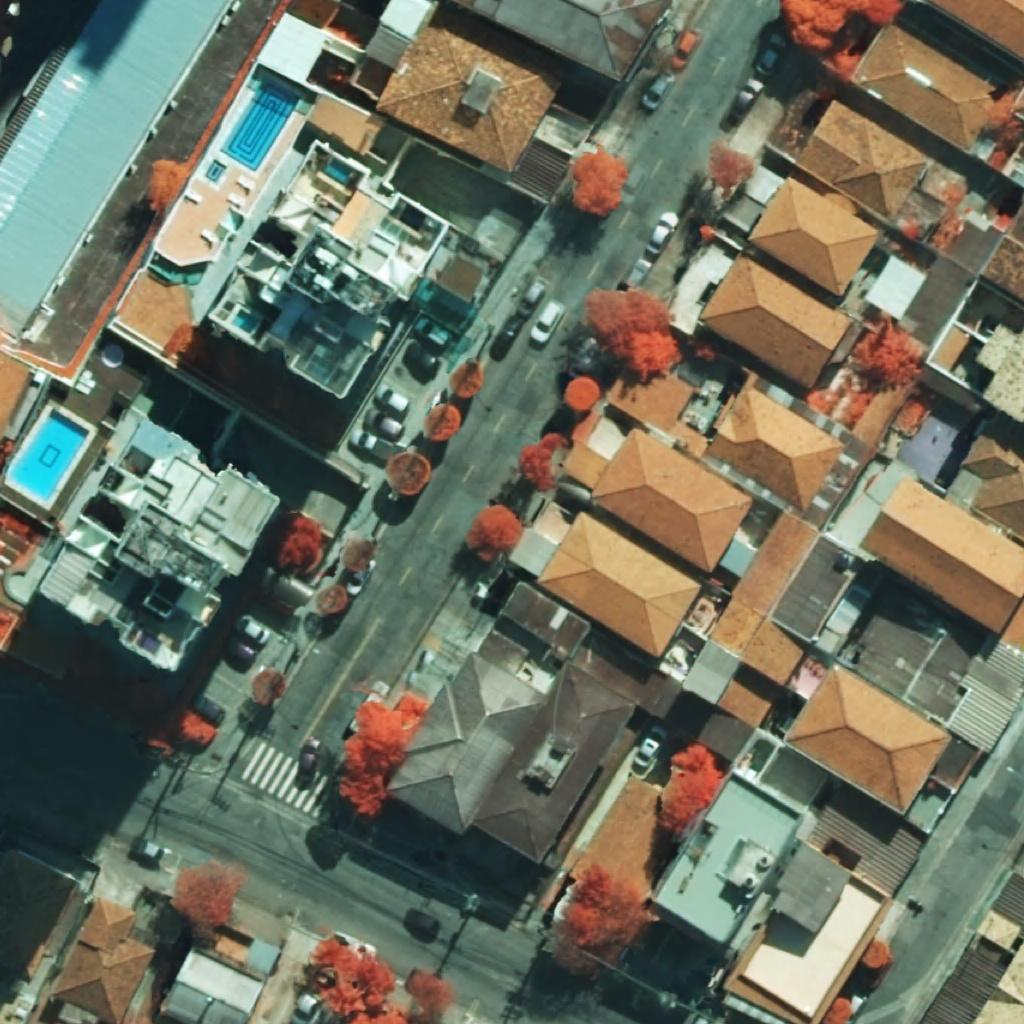pool: (220, 78, 300, 172), (9, 409, 89, 502)
